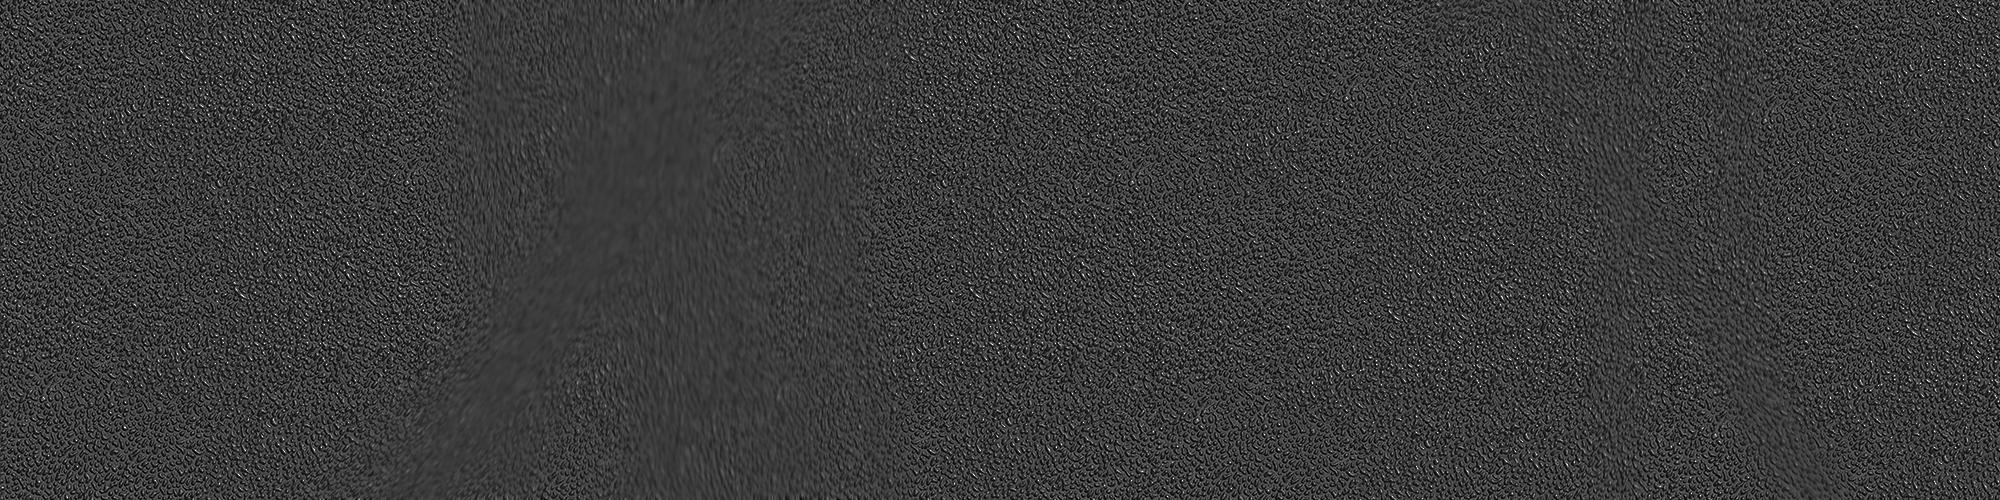Flow_Lines: (403, 11, 843, 497)
